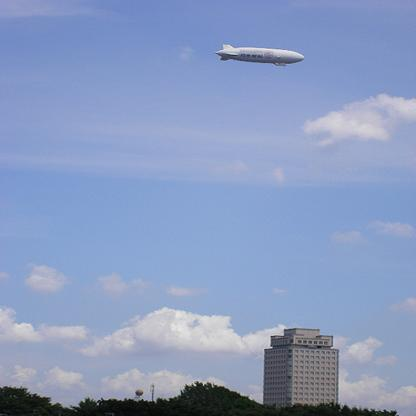Airship: (215, 43, 306, 72)
